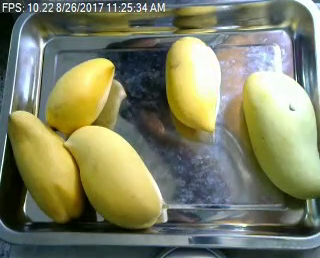Mango: (63, 126, 164, 229), (241, 71, 320, 199), (7, 109, 83, 223), (164, 34, 220, 132), (43, 57, 114, 132)
